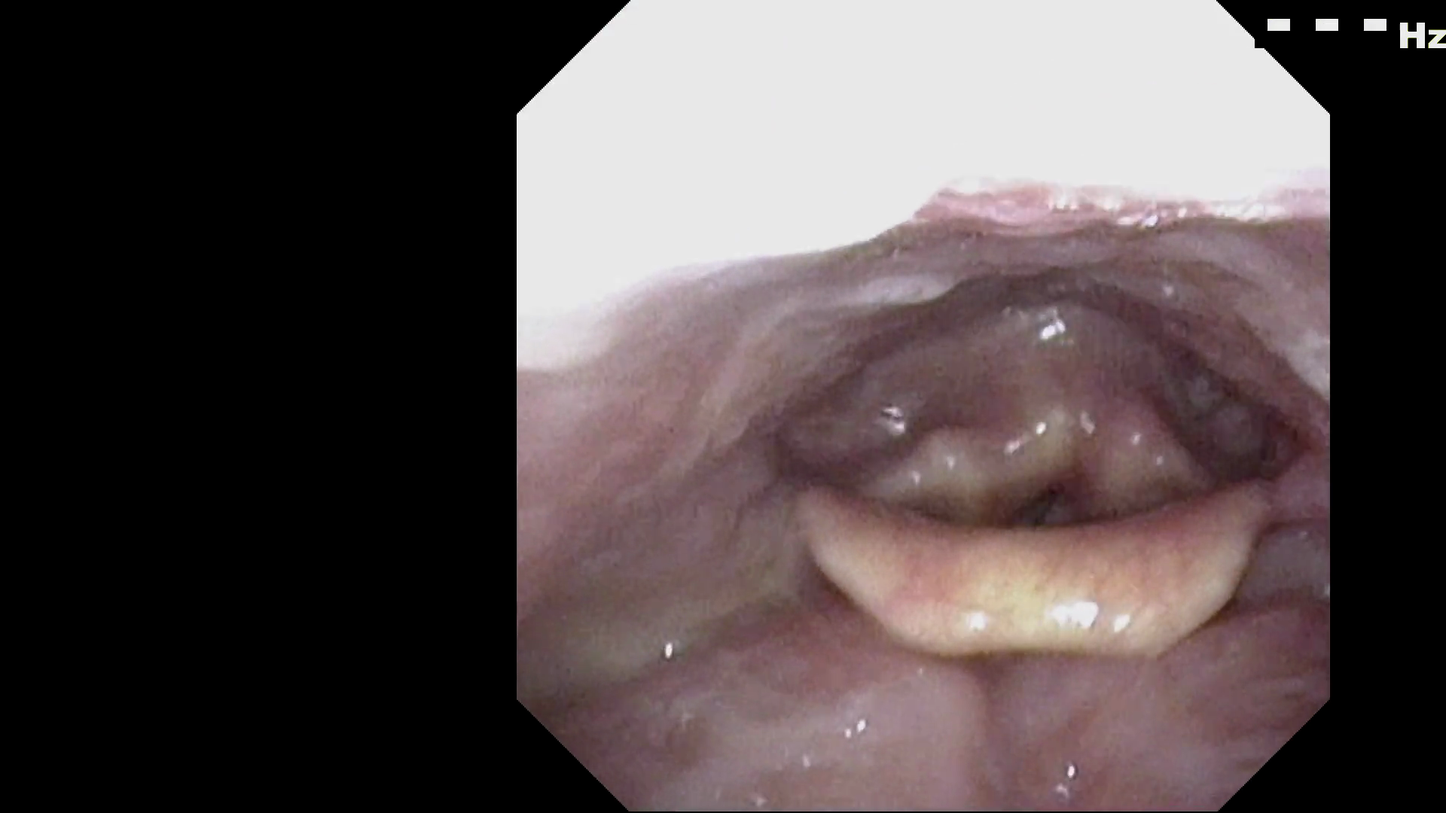epiglottis: (781, 448, 1306, 688)
trachea: (974, 401, 1121, 555)
